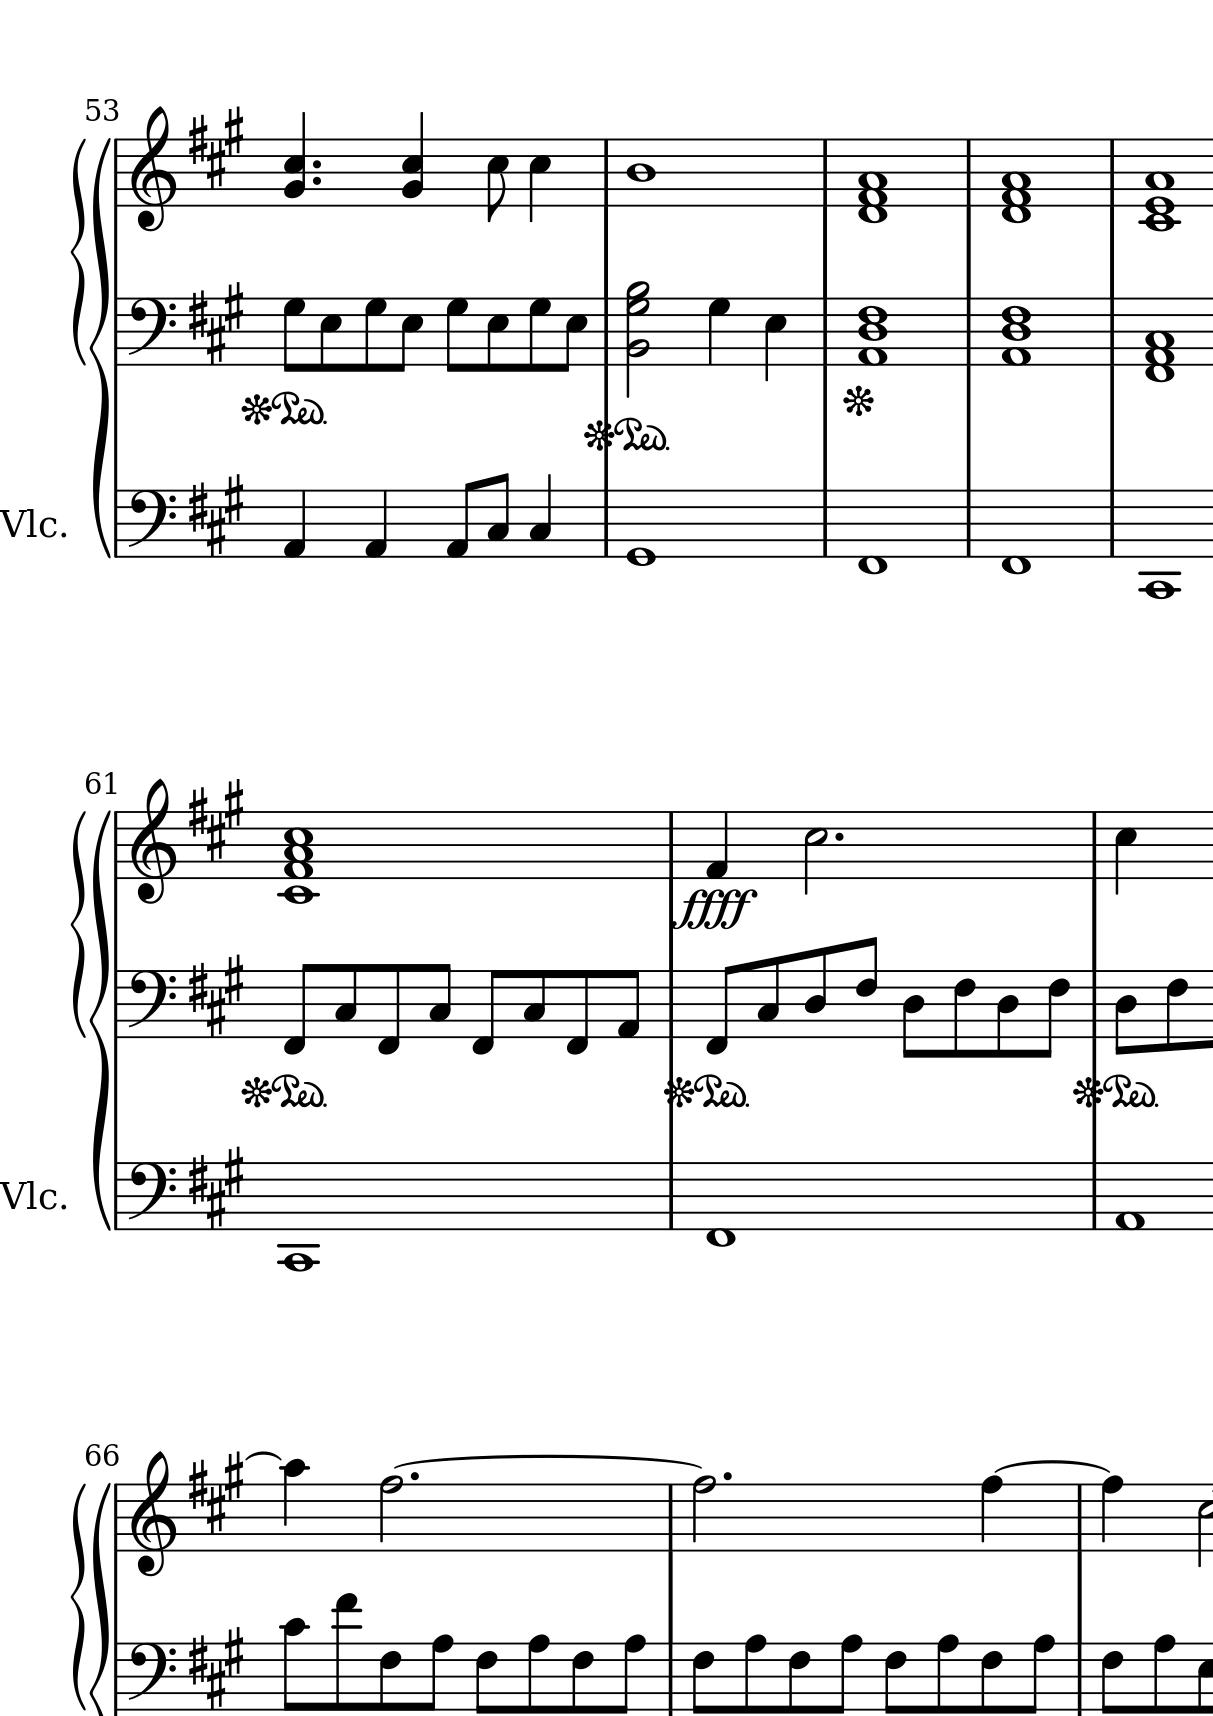1: (102, 769, 117, 798)
1_-1: (999, 486, 1033, 576), (856, 486, 889, 576), (704, 1161, 736, 1249), (625, 488, 658, 568)
1_-4: (1138, 486, 1181, 601), (276, 1161, 318, 1274)
1_1: (1115, 1159, 1146, 1237)
1_3: (624, 137, 656, 210)
1_4th: (278, 810, 319, 910)
1_th: (1139, 135, 1181, 232), (998, 138, 1034, 223), (855, 138, 891, 222), (1143, 295, 1178, 382), (855, 295, 891, 368), (998, 295, 1034, 366)
2_5: (801, 810, 827, 897)
2_8: (377, 1473, 404, 1555), (691, 1473, 717, 1555)
2_th: (624, 277, 650, 402)
3: (101, 96, 119, 123)
4_1: (280, 488, 309, 561), (362, 488, 389, 561), (704, 809, 729, 881)
4_10: (280, 1457, 309, 1555)
4_3: (528, 473, 553, 559)
4_5: (526, 137, 551, 223), (1113, 807, 1137, 897), (763, 295, 786, 383)
4_7: (706, 295, 733, 368)
4_8: (979, 1474, 1003, 1555), (1099, 1474, 1122, 1555)
5: (84, 96, 101, 123)
6: (83, 1442, 102, 1468), (84, 769, 102, 797), (101, 1442, 119, 1468)
8_-1: (280, 961, 316, 1058), (702, 962, 738, 1058), (467, 968, 501, 1057), (563, 968, 589, 1058), (375, 962, 400, 1057)
8_1: (442, 478, 477, 559), (614, 968, 641, 1041)
8_10: (280, 1618, 309, 1713)
8_13: (331, 1593, 360, 1713)
8_3: (754, 956, 781, 1040), (484, 473, 509, 561), (332, 962, 358, 1040), (427, 961, 452, 1040), (521, 968, 547, 1039)
8_4: (801, 947, 828, 1040), (901, 968, 926, 1061), (994, 968, 1019, 1060), (1115, 968, 1139, 1056)
8_5: (558, 295, 588, 375), (395, 297, 424, 375), (484, 137, 509, 223), (318, 295, 343, 375), (484, 295, 509, 375), (1195, 1640, 1212, 1713)
8_6: (1036, 968, 1070, 1060), (852, 935, 878, 1041), (950, 968, 975, 1061), (1164, 968, 1189, 1053), (1099, 1640, 1125, 1715), (473, 1640, 498, 1716), (691, 1640, 715, 1715), (786, 1640, 811, 1715), (979, 1640, 1004, 1715), (570, 1641, 595, 1715), (882, 1641, 907, 1715), (378, 1641, 402, 1713)
8_7: (280, 295, 306, 375), (444, 295, 469, 374), (362, 295, 387, 373), (526, 295, 551, 373)
8_8: (610, 1633, 647, 1716), (828, 1633, 864, 1715), (420, 1633, 456, 1713), (1021, 1633, 1055, 1716), (525, 1633, 551, 1716), (742, 1633, 768, 1716), (933, 1633, 960, 1716), (1151, 1633, 1176, 1716)
A_S: (182, 779, 249, 863), (184, 106, 245, 190), (184, 280, 245, 364), (184, 955, 245, 1037), (185, 1625, 245, 1709), (185, 473, 245, 555), (186, 1146, 245, 1229), (186, 1452, 245, 1534)
Brace: (91, 811, 112, 1228), (91, 133, 110, 561), (66, 810, 91, 1040), (70, 135, 93, 366), (68, 1484, 91, 1708)
Fclef: (125, 1640, 177, 1713), (125, 295, 177, 368), (125, 487, 177, 559), (126, 968, 179, 1040), (126, 1161, 177, 1233)
Gclef: (129, 104, 179, 234), (129, 1449, 177, 1578), (129, 777, 177, 905)
Single_barline: (958, 139, 981, 207), (814, 298, 836, 366), (957, 490, 979, 557), (814, 140, 836, 206), (957, 299, 979, 365), (1101, 139, 1122, 207), (1101, 298, 1122, 366), (1070, 1642, 1090, 1715), (814, 491, 835, 557), (1101, 491, 1122, 557), (1071, 1485, 1092, 1551), (1084, 1162, 1104, 1230), (662, 1642, 680, 1715), (1084, 811, 1104, 878), (660, 1163, 680, 1230), (662, 1485, 681, 1552), (1086, 970, 1104, 1039), (599, 297, 616, 366), (597, 490, 614, 557), (662, 811, 679, 878), (662, 972, 679, 1039), (597, 140, 614, 206), (110, 969, 125, 1039), (112, 1642, 125, 1715), (110, 490, 123, 558), (110, 811, 123, 880), (110, 1484, 123, 1552), (112, 298, 125, 365), (110, 1163, 123, 1230), (112, 139, 123, 207)
Slur: (389, 1451, 710, 1467), (992, 1457, 1104, 1473), (244, 1451, 282, 1463)
Vlc: (1, 1175, 58, 1218), (1, 503, 56, 546)
dot: (830, 828, 845, 844), (719, 1469, 735, 1485), (309, 156, 323, 171), (309, 173, 323, 186), (408, 1469, 420, 1484)
ffff: (672, 886, 761, 932)
